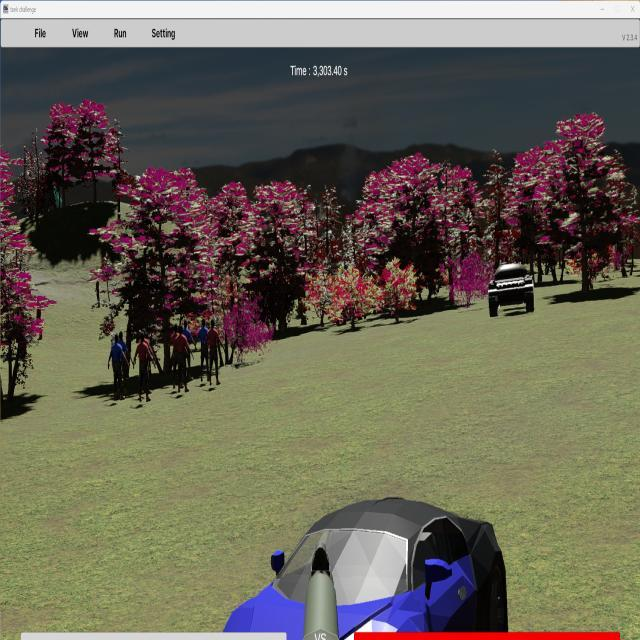Human: (170, 322, 193, 393), (133, 330, 155, 402), (108, 333, 128, 401)
Tank: (488, 260, 535, 317)
car: (157, 494, 506, 640)
